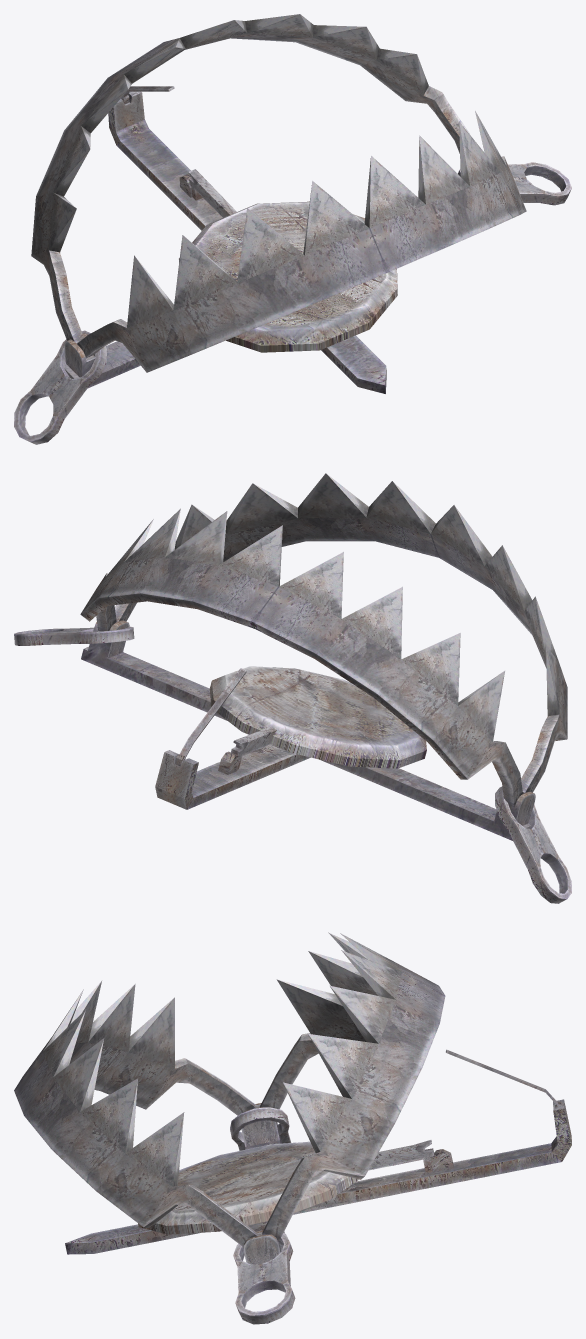
The picture shows the model from 3 angles, top to bottom: view 1: azimuth 30°, elevation 25°; view 2: azimuth 150°, elevation 25°; view 3: azimuth 270°, elevation 25°; orthographic projection. The views are drawn at different scales.
Parts seen in each view (by area): view 1: Trap_LeftSide, Trap_RightSide, Trap_Center, Trap_Cross, Trap_1, Trap_4; view 2: Trap_RightSide, Trap_LeftSide, Trap_Center, Trap_Cross, Trap_1, Trap_3, Trap_4; view 3: Trap_LeftSide, Trap_RightSide, Trap_Cross, Trap_Center, Trap_1, Trap_4.
Part boxes in pixels (box(x1,y1,x2,y2)): Trap_LeftSide: box(77, 111, 526, 372); Trap_RightSide: box(31, 14, 470, 342); Trap_Center: box(179, 201, 397, 352); Trap_Cross: box(64, 91, 386, 393); Trap_1: box(14, 162, 571, 444); Trap_4: box(188, 169, 236, 217); Trap_RightSide: box(80, 508, 522, 807); Trap_LeftSide: box(115, 473, 567, 793); Trap_Center: box(209, 666, 426, 768); Trap_Cross: box(81, 620, 535, 840); Trap_1: box(14, 626, 571, 903); Trap_3: box(179, 668, 246, 762); Trap_4: box(231, 727, 276, 769); Trap_LeftSide: box(14, 981, 259, 1247); Trap_RightSide: box(260, 932, 445, 1242); Trap_Cross: box(65, 1099, 571, 1264); Trap_Center: box(138, 1141, 359, 1234); Trap_1: box(230, 1107, 295, 1324); Trap_4: box(368, 1140, 434, 1173).
Bounding box in the file's own units: 141 × 83.51 × 120.
1 material, 1 textured.
